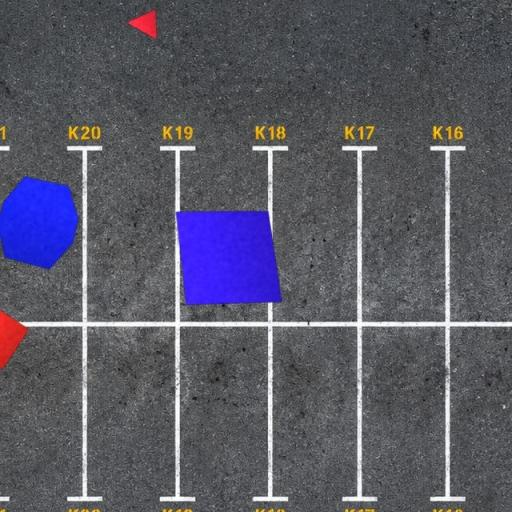BLUE_SQUARE: (176, 210, 282, 306)
RED_SQUARE: (0, 302, 30, 370)
